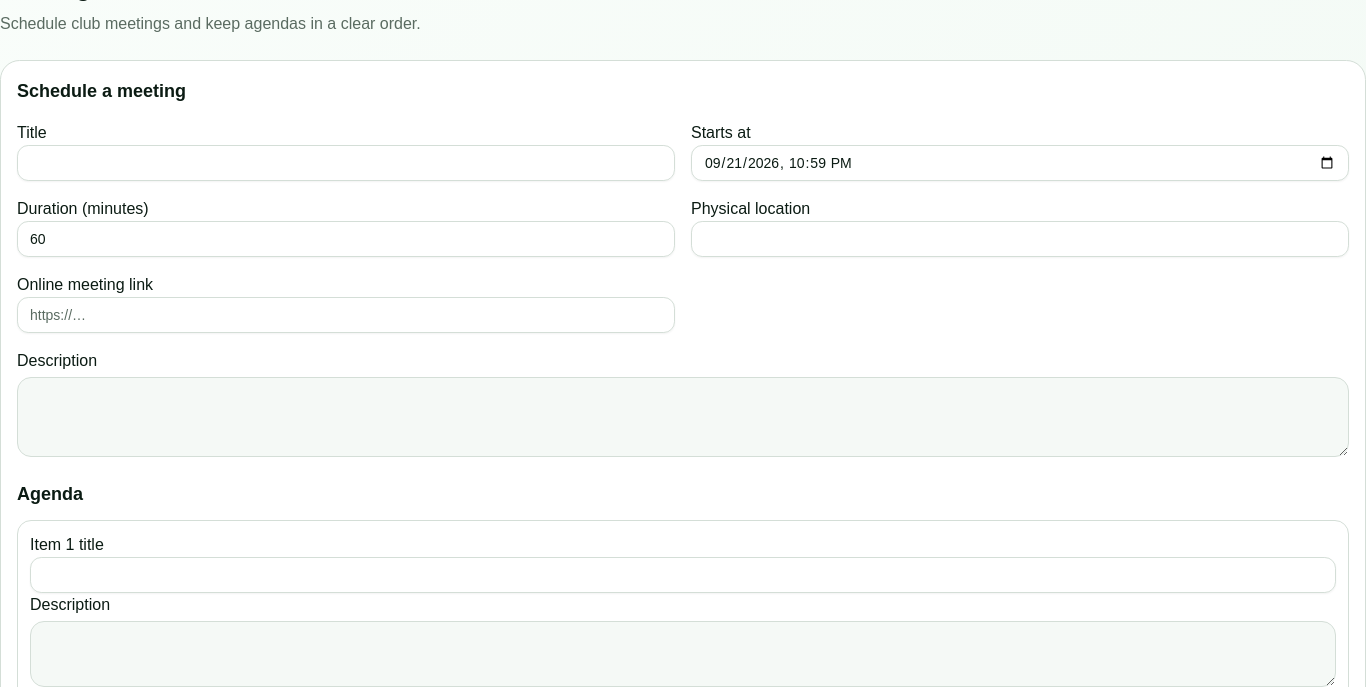
it: shows save failures without claiming success
Type "Failed" into the field labelled "Title".
click(346, 163); type("Failed")  # box [17,145,675,181]
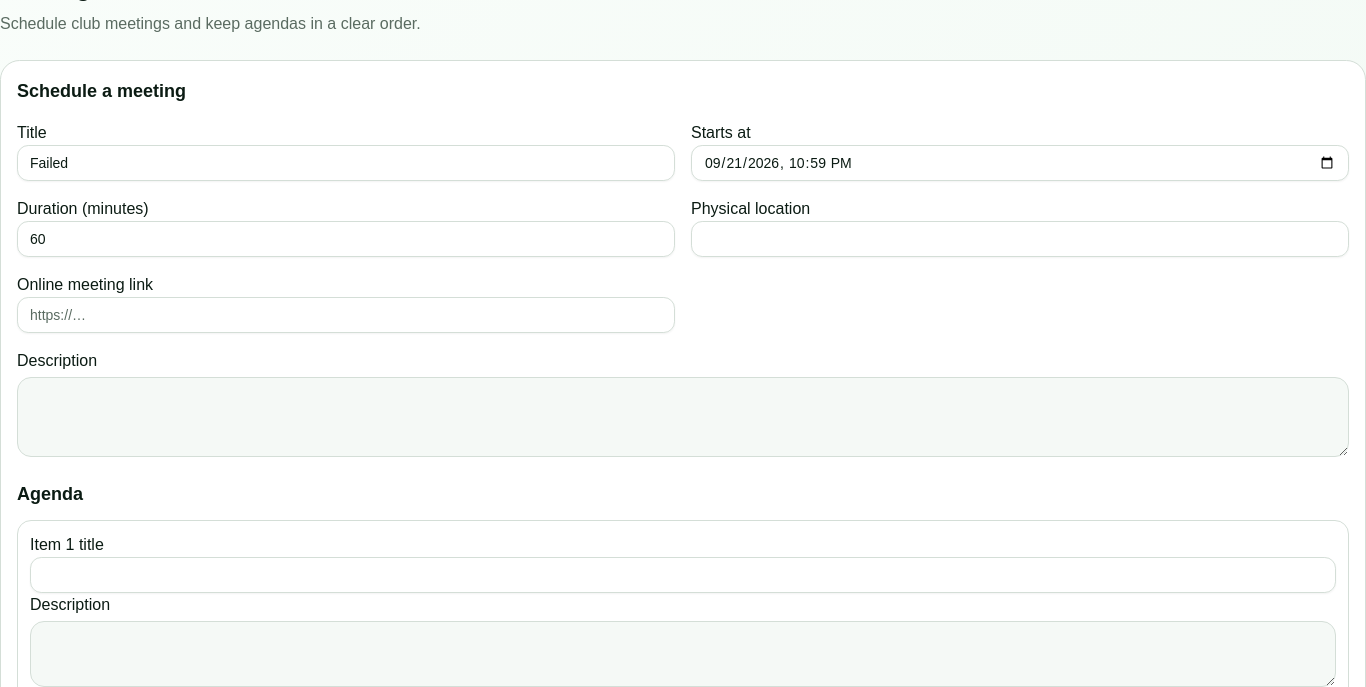
Type "Hall" into the field labelled "Physical location".
click(1020, 239); type("Hall")  # box [691,221,1349,257]
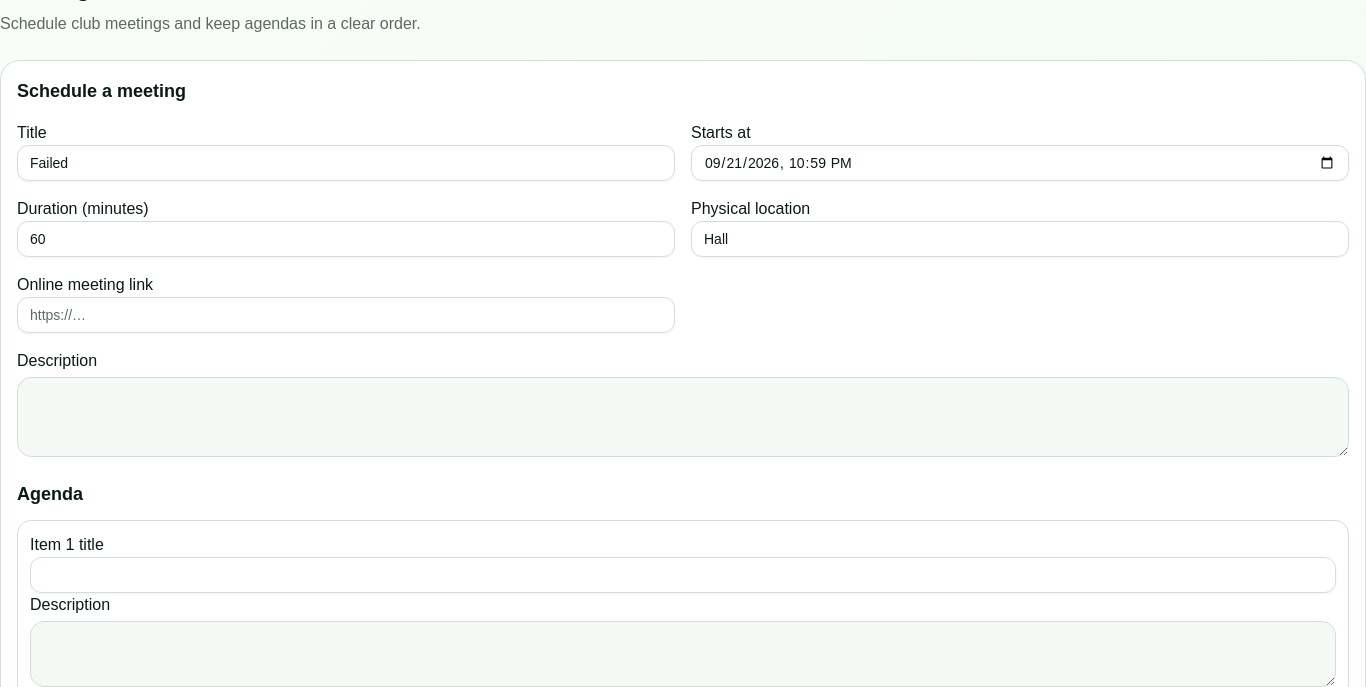
Type "Item" into the field labelled "Item 1 title".
click(683, 575); type("Item")  # box [30,557,1336,593]
(page scrolled)
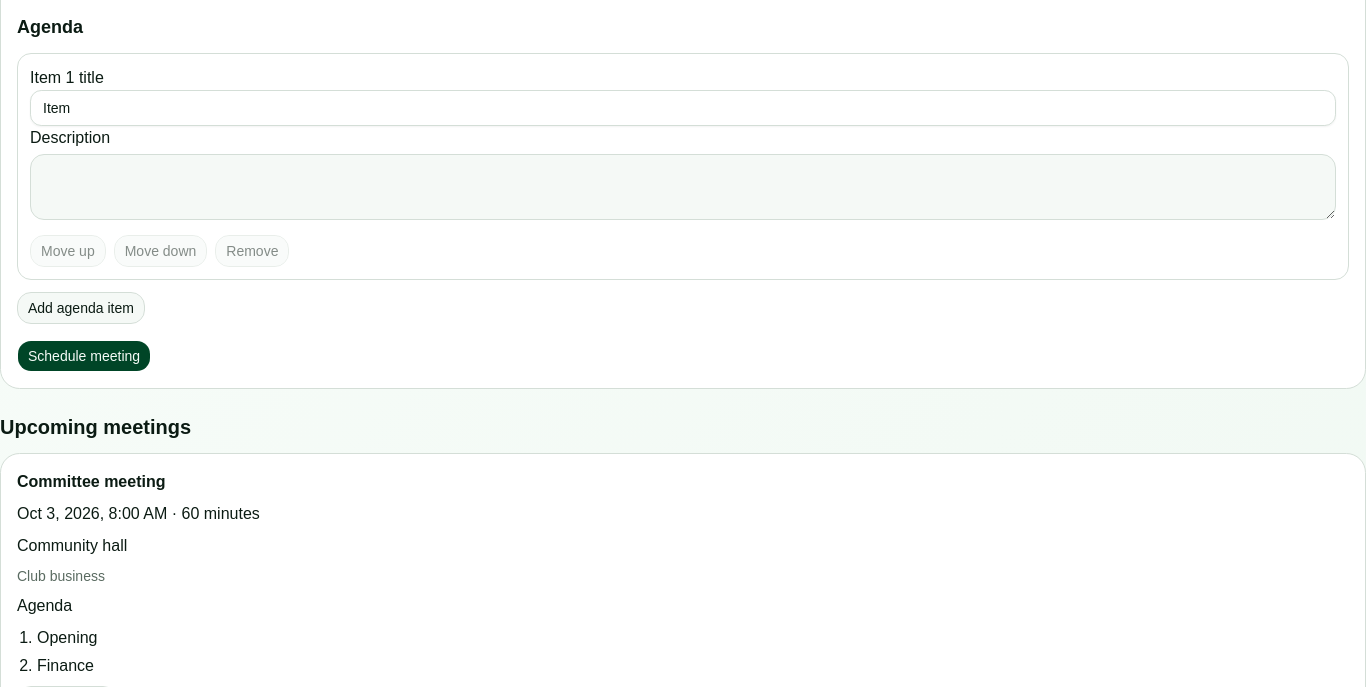
Click the button "Schedule meeting".
click(84, 356)  # box [17,340,151,372]
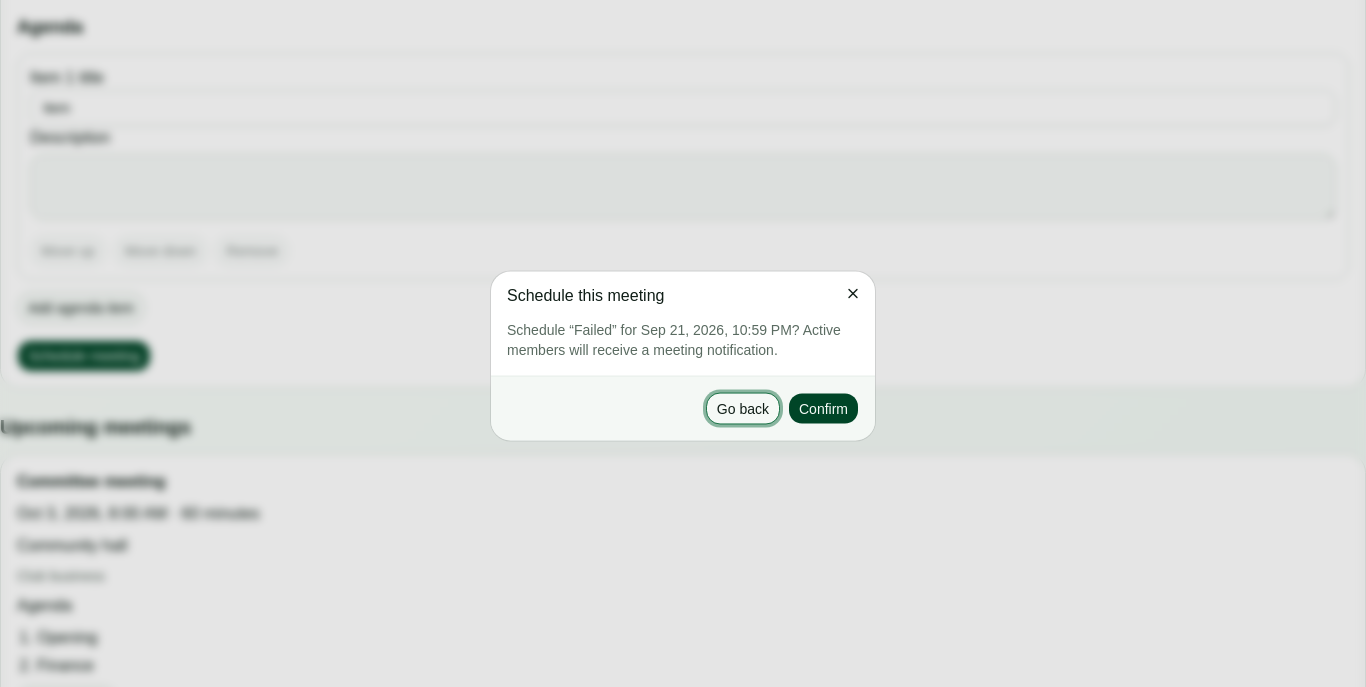
Click the button "Confirm".
click(824, 408)  # box [788,392,859,424]
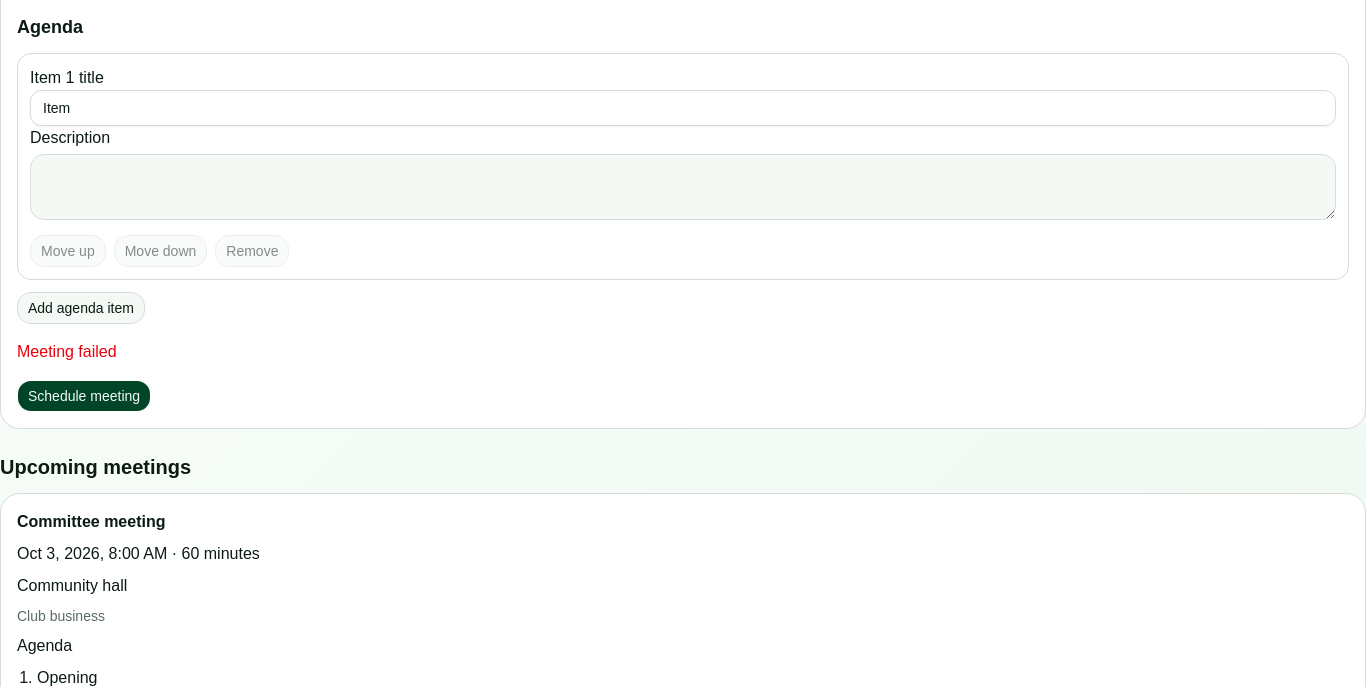
Check: the message reads "Meeting failed", box [17,343,117,360]
